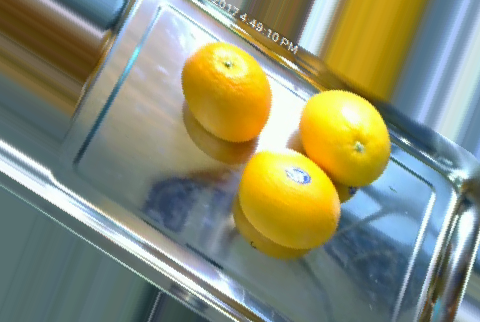Orange: (240, 146, 342, 250), (179, 42, 271, 145), (300, 88, 390, 187)
